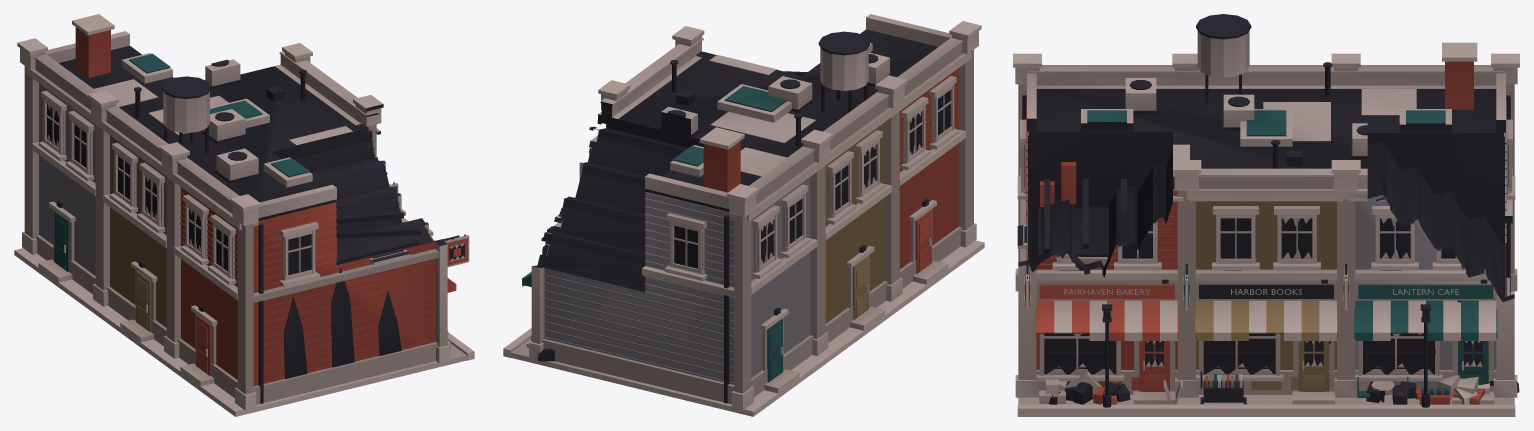
File: bld.storefront-row.w5.lod1.glb
3 renders of one model, left to right at view 1: azimuth 30°, elevation 25°; view 2: azimuth 150°, elevation 25°; view 3: azimuth 270°, elevation 25°, orthographic. The views are drawn at different scales.
Parts seen in each view (by area): view 1: body; view 2: body; view 3: body.
Boxes of the visible parts, box(x1,y1,x2,y2) form: body: box(14, 14, 474, 416); body: box(503, 14, 984, 416); body: box(1013, 14, 1519, 416).
Size of the model in its own units: 10.1 by 10.22 by 16.54.
